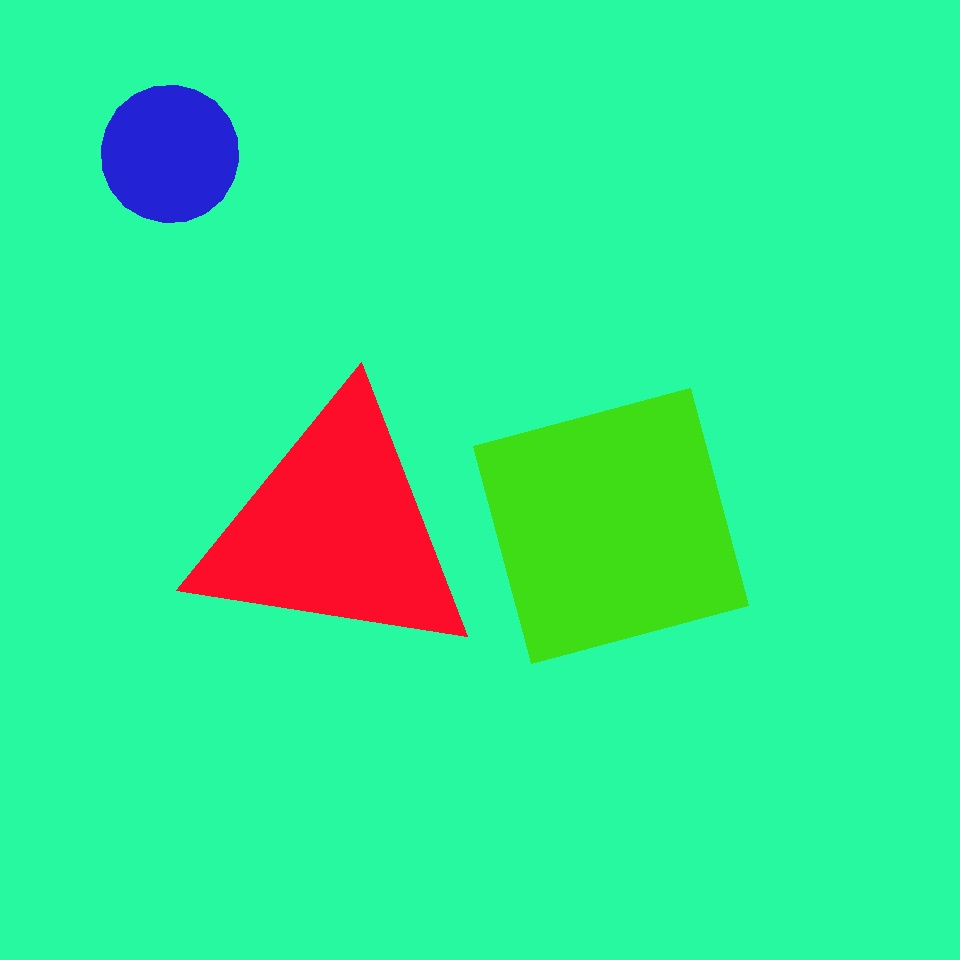circle: (190, 393, 480, 667), (194, 80, 298, 170)
square: (474, 389, 748, 664), (412, 147, 633, 368)
triangle: (383, 270, 581, 468), (102, 86, 238, 222)
